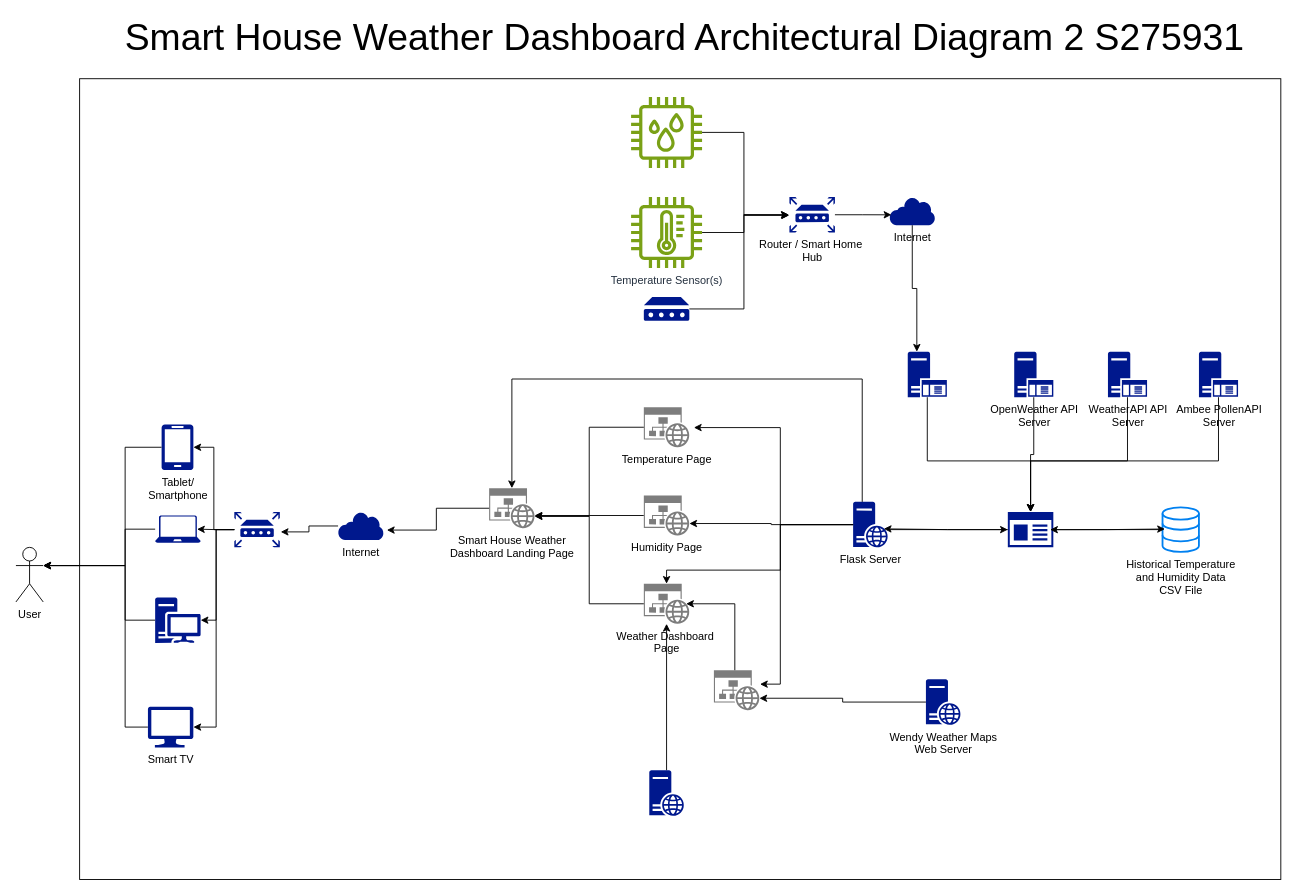
Image size: 1297x895. Some labels were removed from this diagram. Each missing label, with the box of its shape:
Desktop Computer: (155, 597, 200, 642)
Humidity Sensor(s): (631, 96, 702, 167)
Laptop: (155, 515, 200, 542)
Router: (234, 511, 279, 547)
Smart House Weather Dashboard Backend Python Application: (1007, 511, 1053, 547)
Time and Date Server: (649, 770, 683, 815)
Weather Maps: (713, 670, 759, 710)
Weather Station: (643, 297, 689, 320)
WeatherLink API Server: (907, 351, 946, 397)
